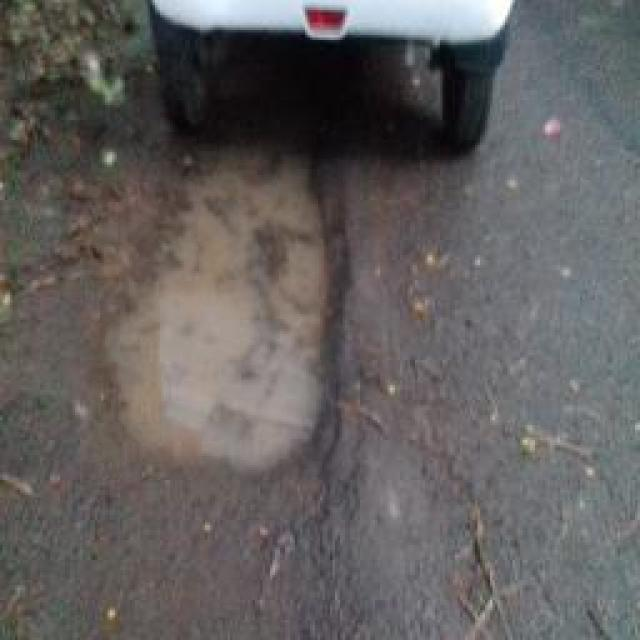puddle: (94, 131, 346, 478)
